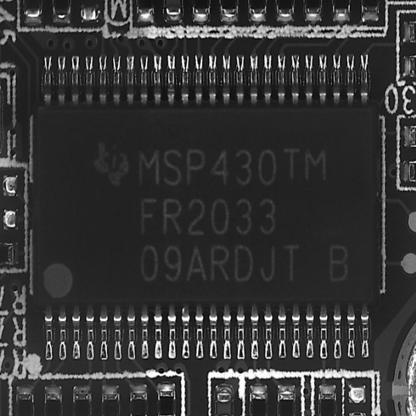PIN: (31, 42, 385, 124), (30, 287, 386, 366)
